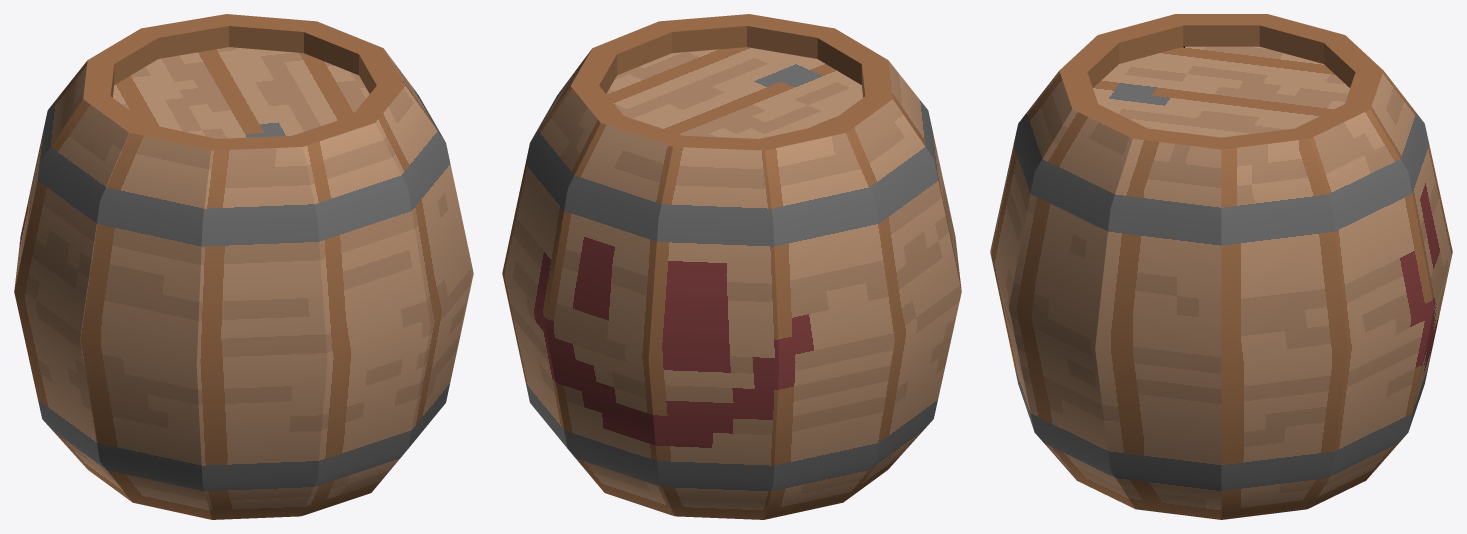
File: Barrel.fbx
3 renders of one model, left to right at view 1: azimuth 30°, elevation 25°; view 2: azimuth 150°, elevation 25°; view 3: azimuth 270°, elevation 25°, orthographic.
Visible parts, largest first — view 1: pCylinder1; view 2: pCylinder1; view 3: pCylinder1.
Boxes of the visible parts, x1,y1,x2,y2 form: pCylinder1: [14, 14, 473, 519]; pCylinder1: [502, 14, 961, 519]; pCylinder1: [990, 14, 1452, 519].
Bounding box in the file's own units: 2.23 × 2 × 2.25.
1 material, 1 textured.
